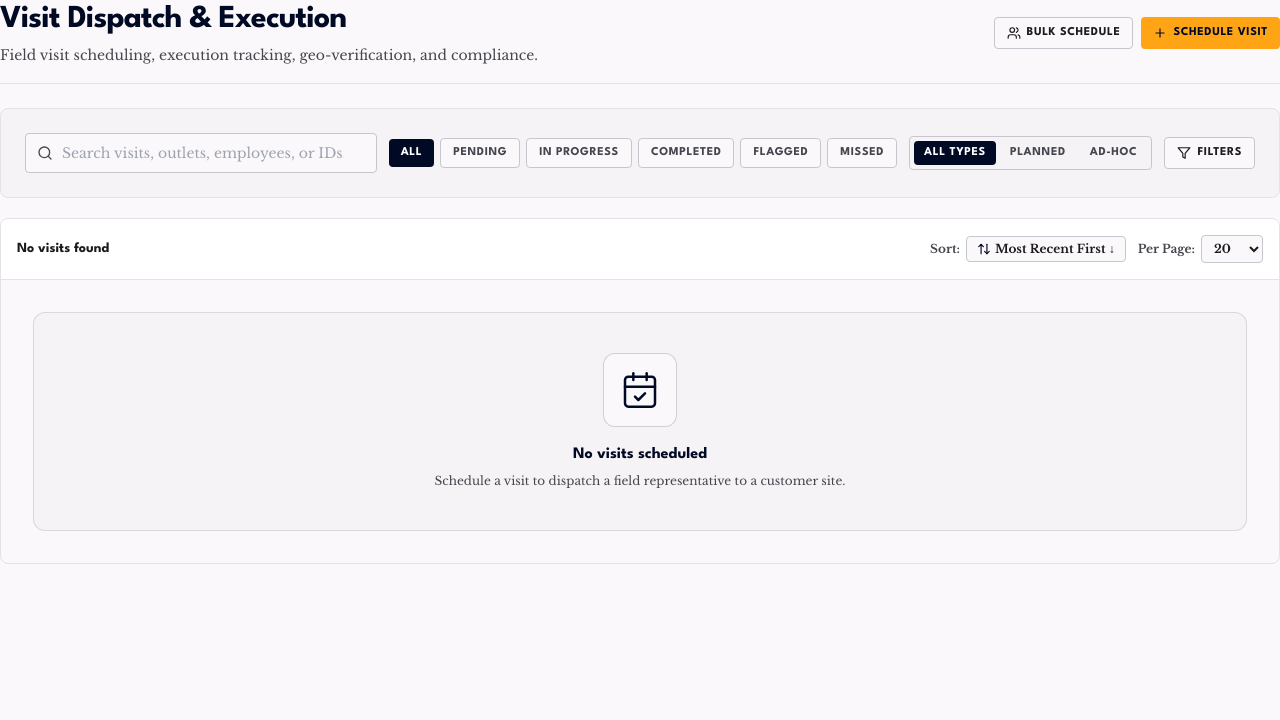
Test case: VisitsPage - bulk scheduling › populates customer selection from /customers
Click the button "Bulk Schedule": x=1064, y=33 [994,17,1133,49]
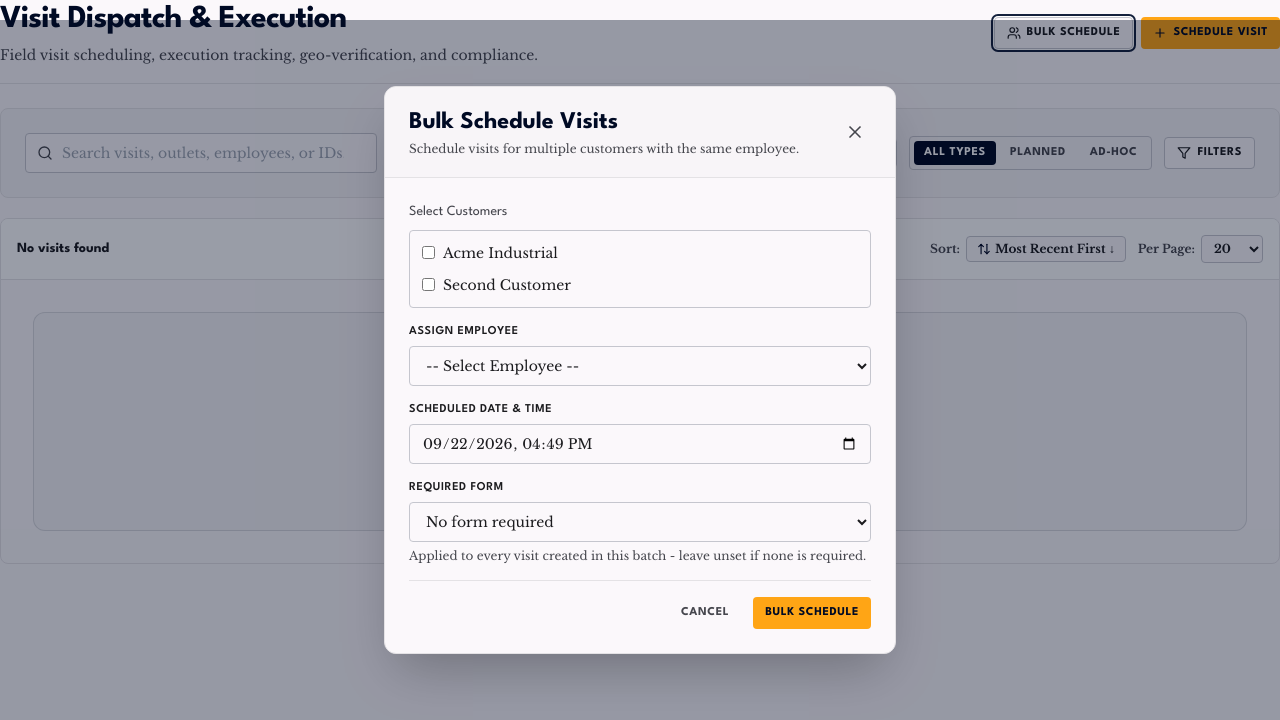
Check: the heading "Bulk Schedule Visits" is shown, box [409,111,618,133]
Check: the text "Acme Industrial" is shown, box [443,243,558,263]
Check: the text "Second Customer" is shown, box [443,275,571,295]
